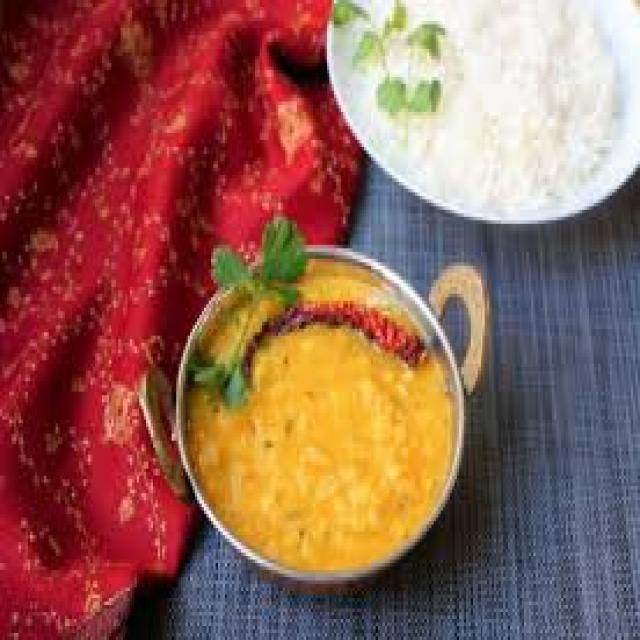dal: (210, 296, 424, 542)
